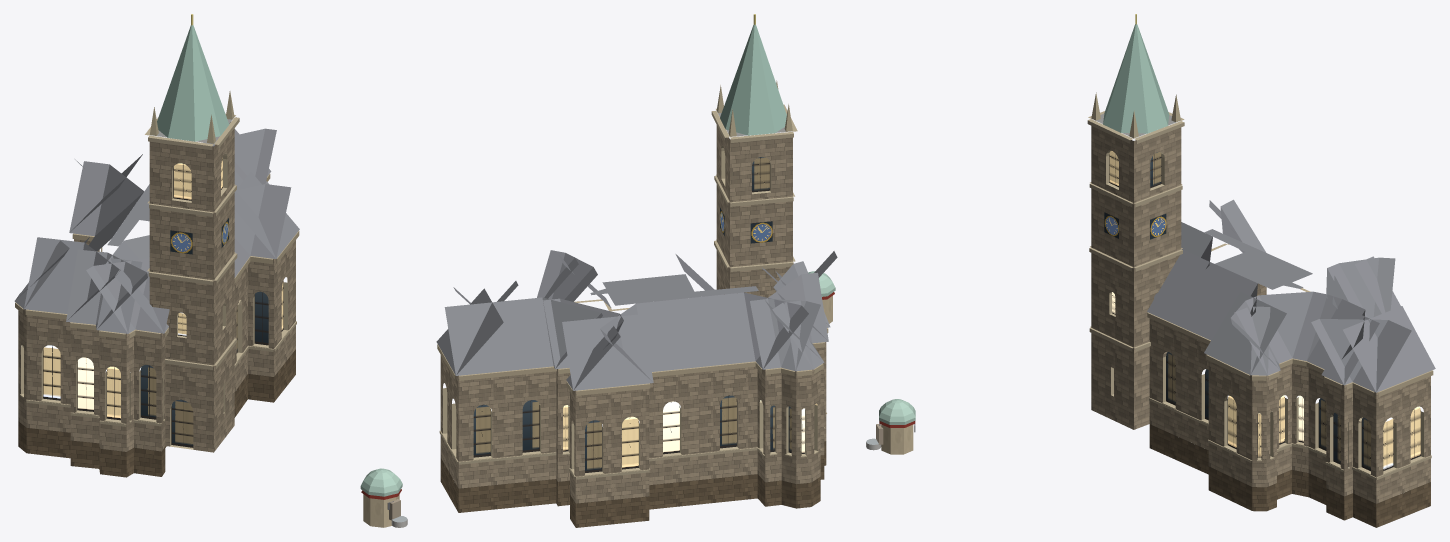
The model's file is johanneskirche.glb.
The picture shows the model from 3 angles, left to right: view 1: azimuth 30°, elevation 25°; view 2: azimuth 150°, elevation 25°; view 3: azimuth 270°, elevation 25°; orthographic projection. The views are drawn at different scales.
Visible parts, largest first — view 1: johanneskirche; view 2: johanneskirche; view 3: johanneskirche.
Boxes of the visible parts, x1,y1,x2,y2 form: johanneskirche: [14, 14, 407, 527]; johanneskirche: [436, 14, 837, 527]; johanneskirche: [866, 14, 1435, 527].
Size of the model in its own units: 40.23 by 52.4 by 64.32.
4 materials, 4 textured.
